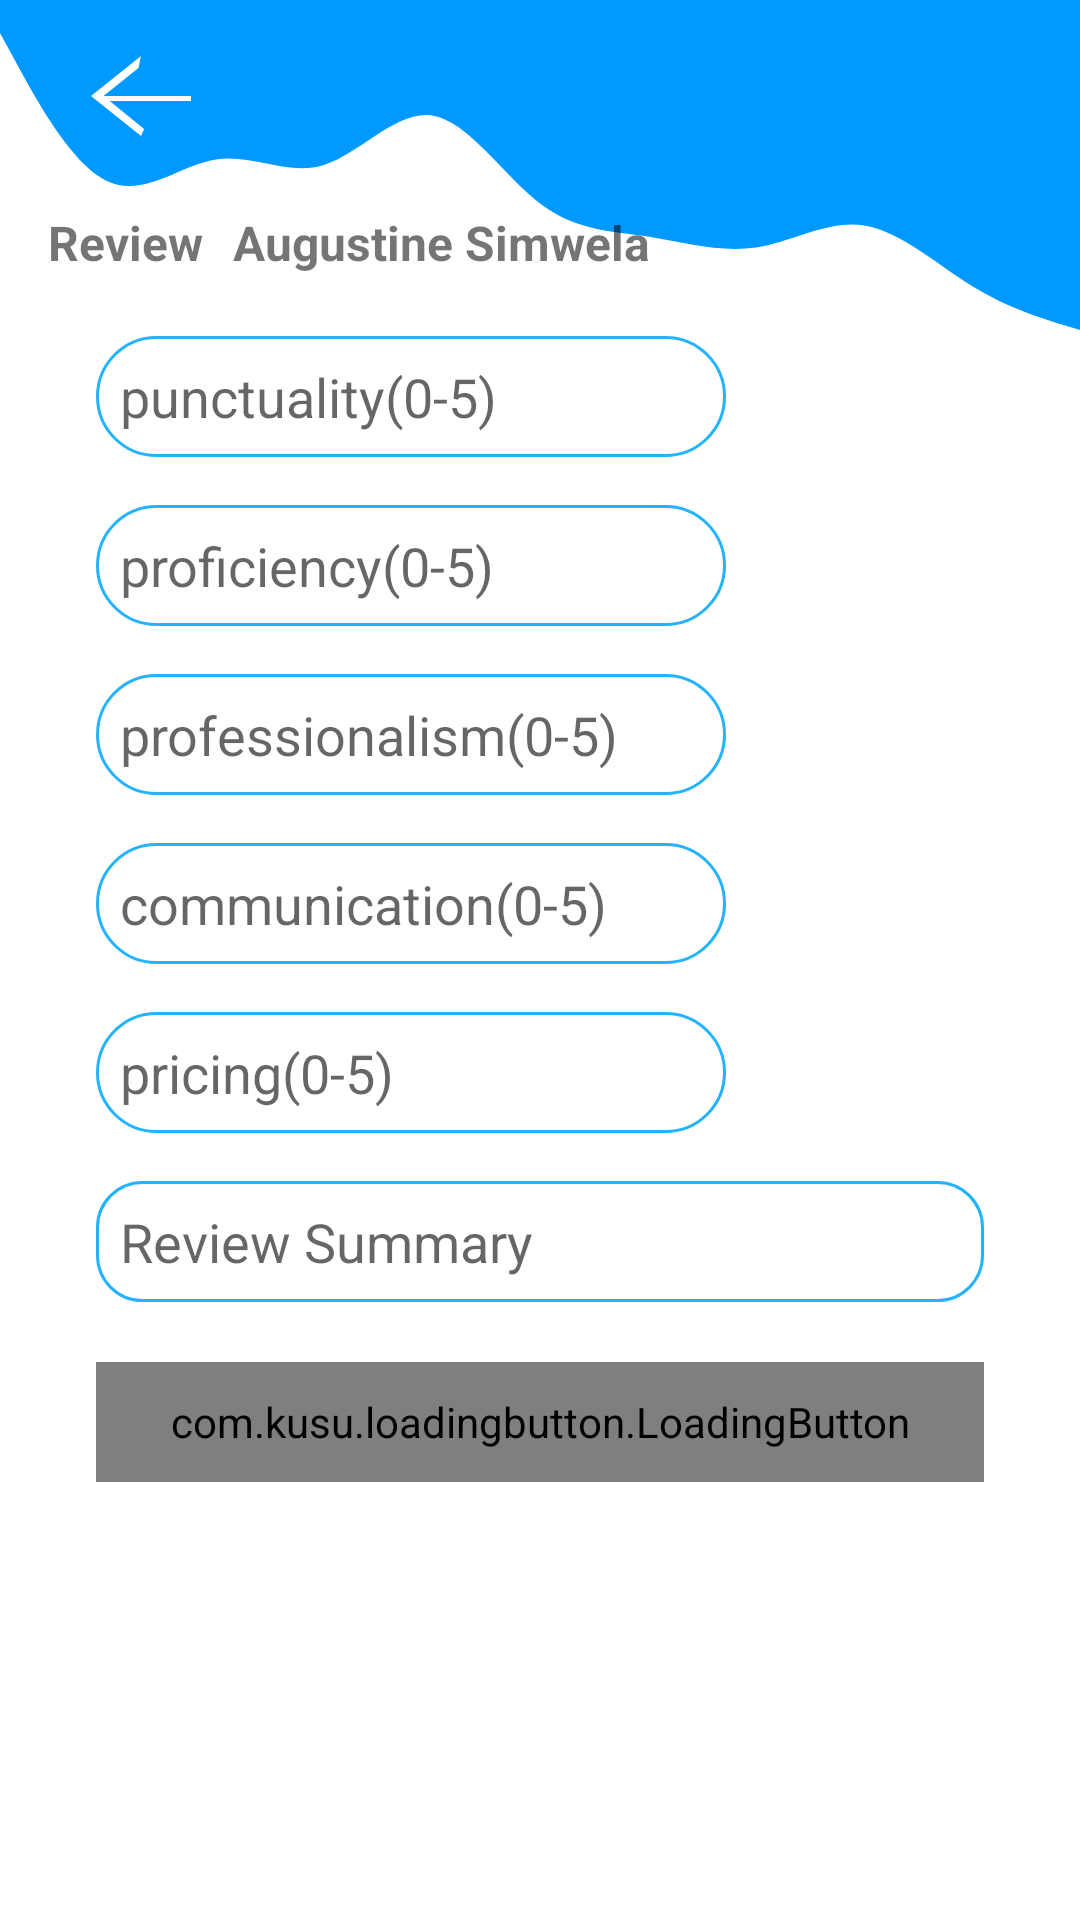

Named icons in this screenshot (1080x1920) and their centers, (x=x, y=y):
back arrow: (x=141, y=115)
